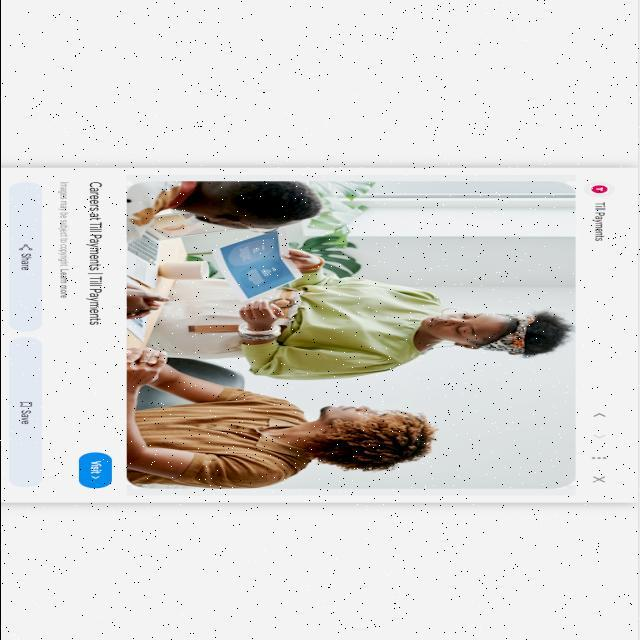face_no_mask: (417, 312, 515, 350), (315, 403, 397, 444)
